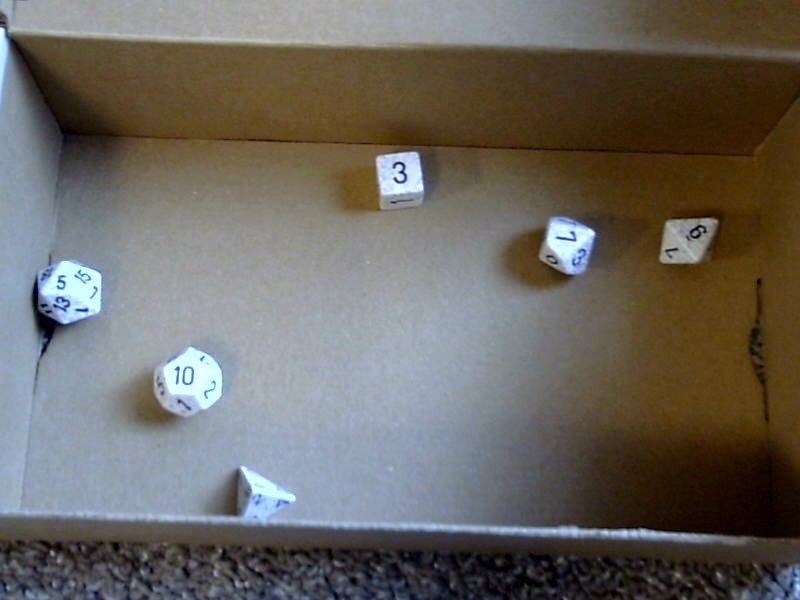d10 7: (530, 209, 601, 282)
d12 10: (147, 343, 225, 424)
d20 5: (26, 255, 105, 330)
d4 2: (228, 460, 302, 524)
d6 3: (357, 141, 440, 214)
d8 6: (652, 211, 723, 271)
